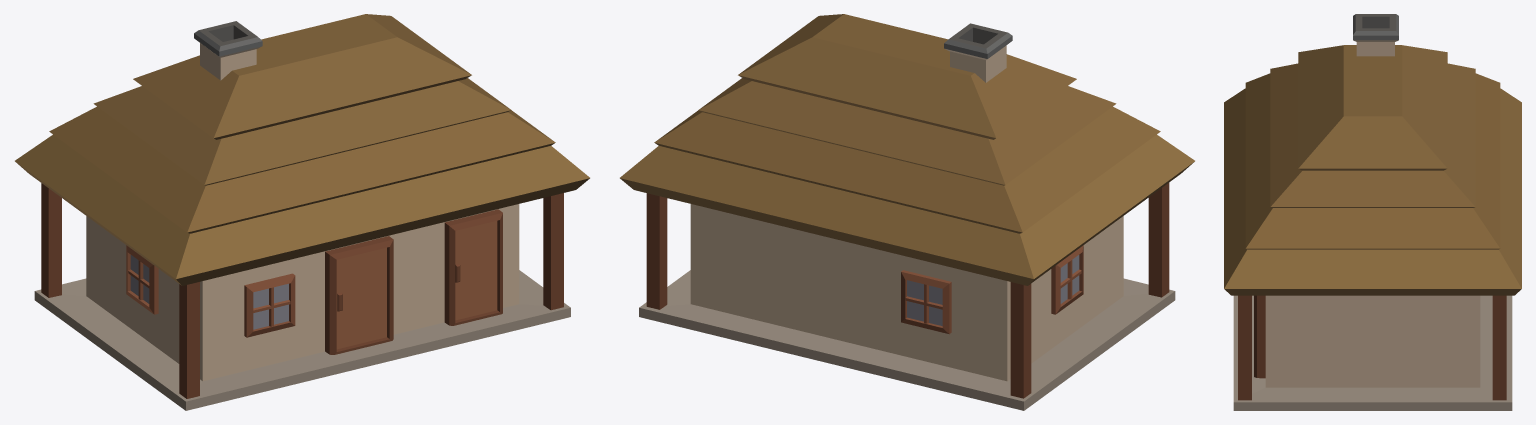
Rendered from houses_small.fbx.
3 renders of one model, left to right at view 1: azimuth 30°, elevation 25°; view 2: azimuth 150°, elevation 25°; view 3: azimuth 270°, elevation 25°, orthographic. The views are drawn at different scales.
Visible parts, largest first — view 1: house small; view 2: house small; view 3: house small.
Boxes of the visible parts, bbox=[...] form: house small: bbox=[15, 14, 589, 410]; house small: bbox=[620, 14, 1194, 410]; house small: bbox=[1224, 14, 1521, 410].
Bounding box in the file's own units: 391 × 263 × 264.
